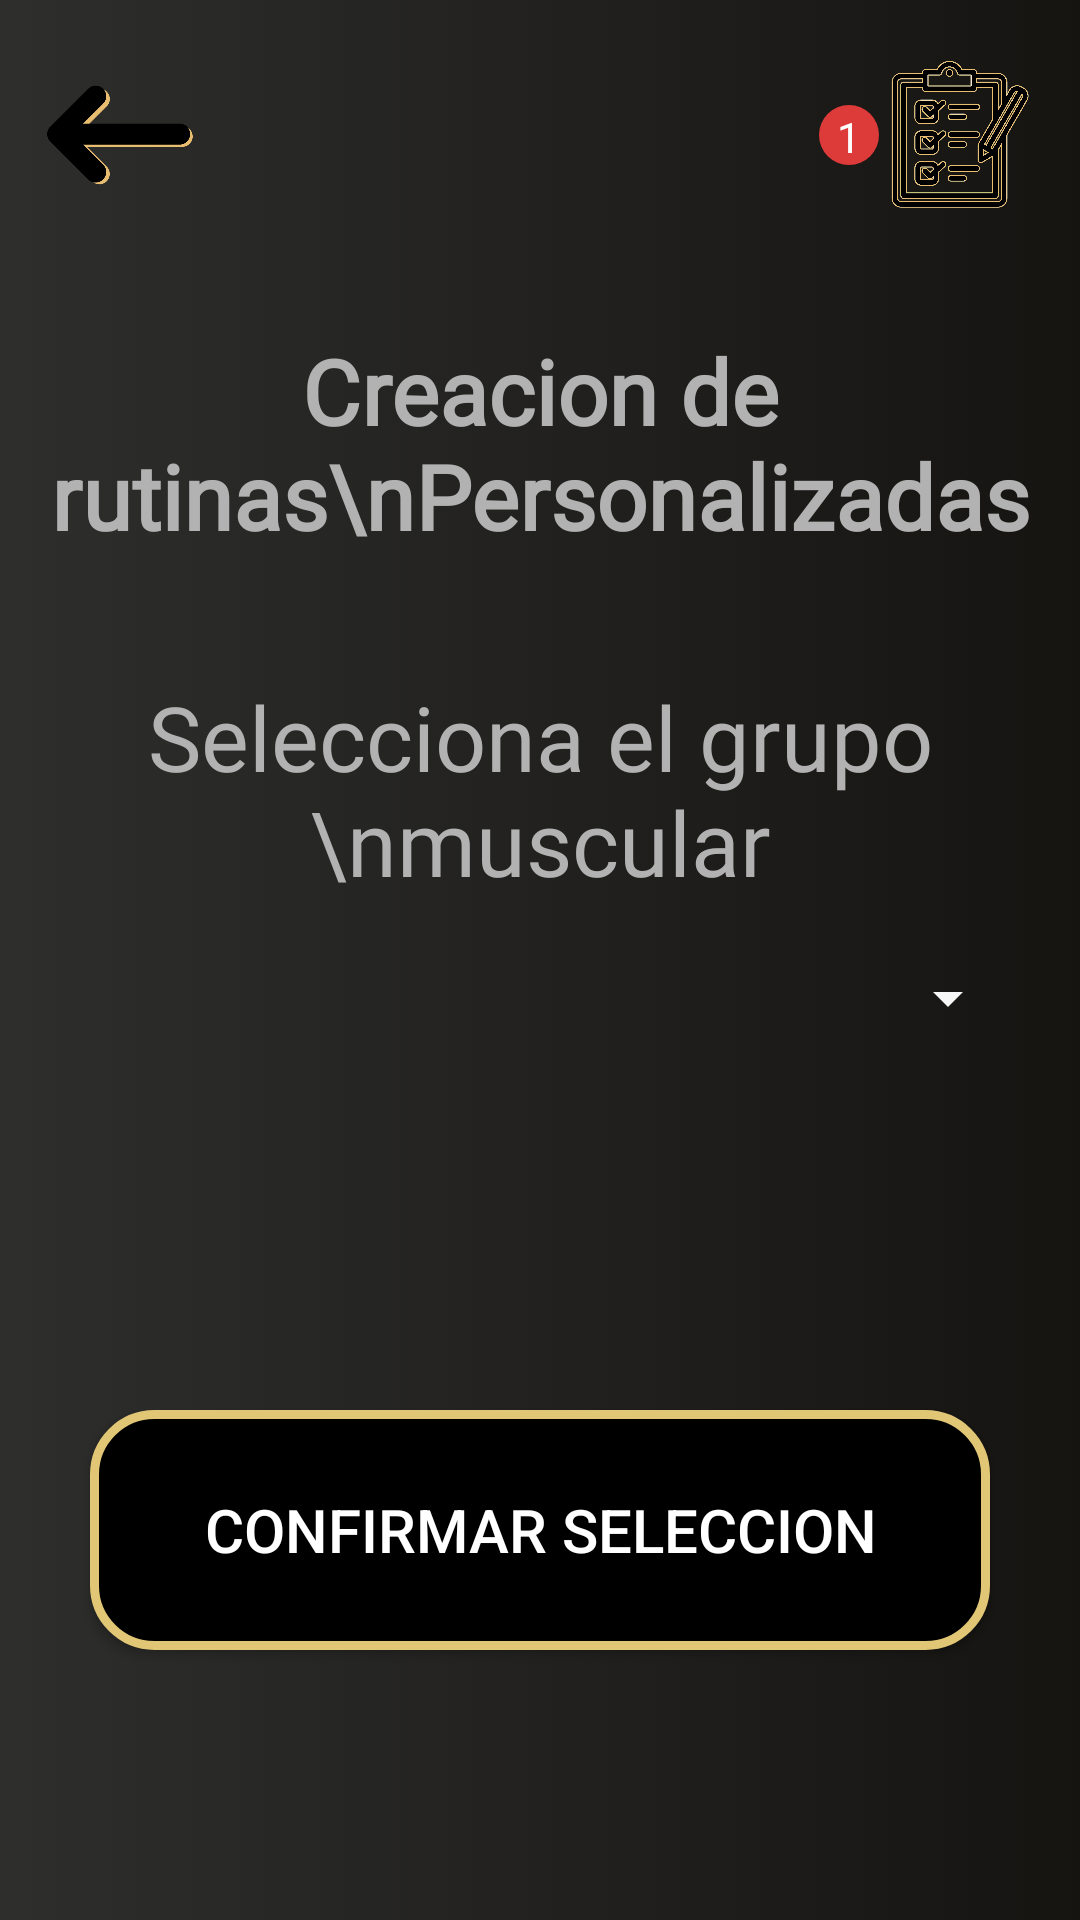

Named icons in this screenshot (1080 × 1920) and their bounding boxes, (left=x1, top=y1, right=x2, bottom=y2):
flechanegrodorado: (left=47, top=86, right=193, bottom=185)
icrutinas: (left=892, top=61, right=1029, bottom=208)
